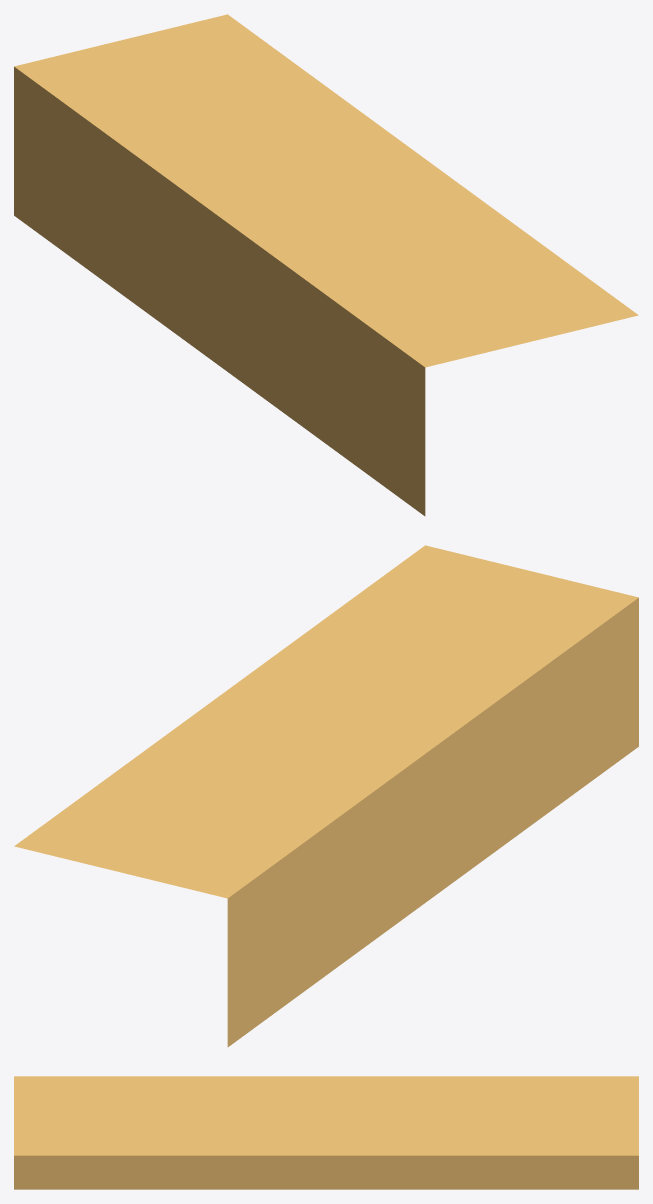
The picture shows the model from 3 angles, top to bottom: view 1: azimuth 30°, elevation 25°; view 2: azimuth 150°, elevation 25°; view 3: azimuth 270°, elevation 25°; orthographic projection. The views are drawn at different scales.
Bounding box in the file's own units: 0.3 × 0.2 × 1.
